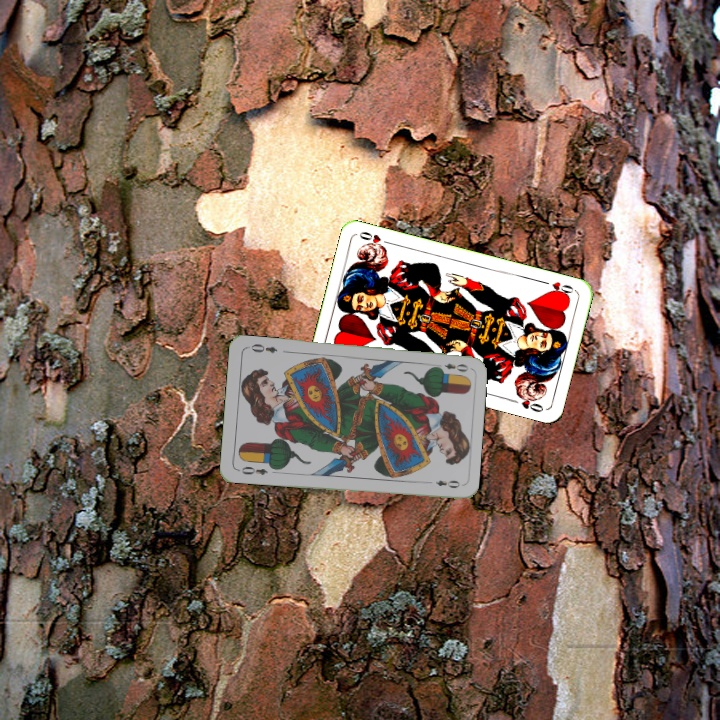EO: (431, 359, 471, 374), (234, 462, 270, 478)
HO: (538, 277, 578, 299)
